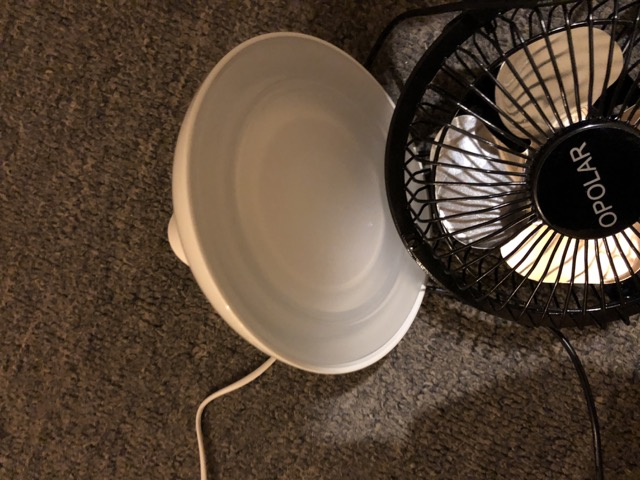fan: (376, 8, 640, 336)
light: (161, 37, 444, 399)
